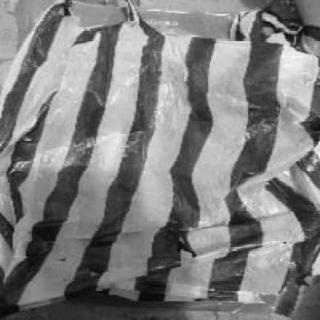objects: (0, 0, 320, 315)
